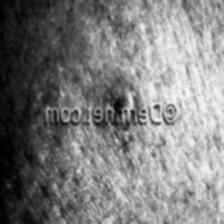Non-Cancerous Skin Condition: (99, 78, 142, 128)
